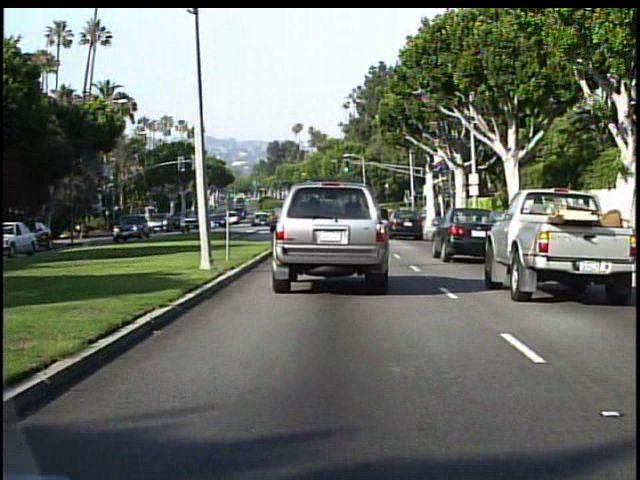person: (75, 220, 83, 240)
